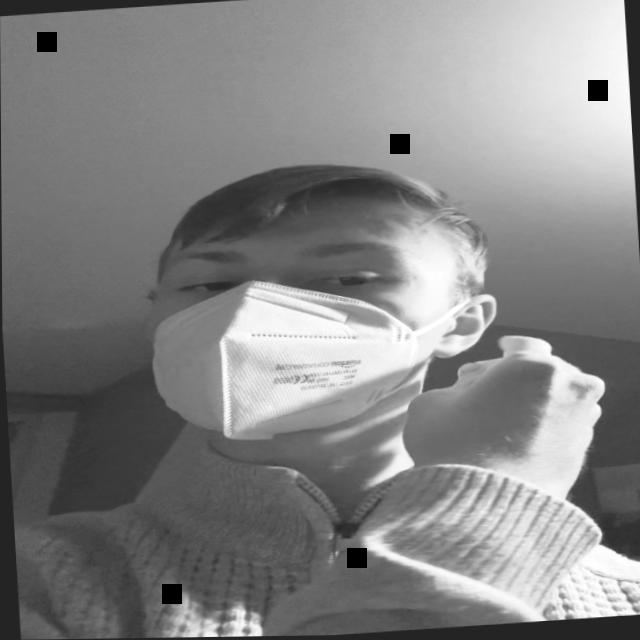Mask: (134, 155, 525, 491)
